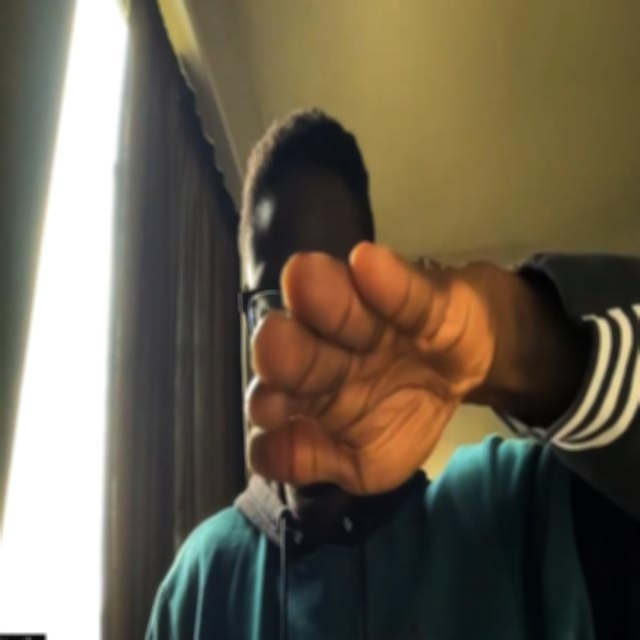Paper: (246, 238, 498, 497)
